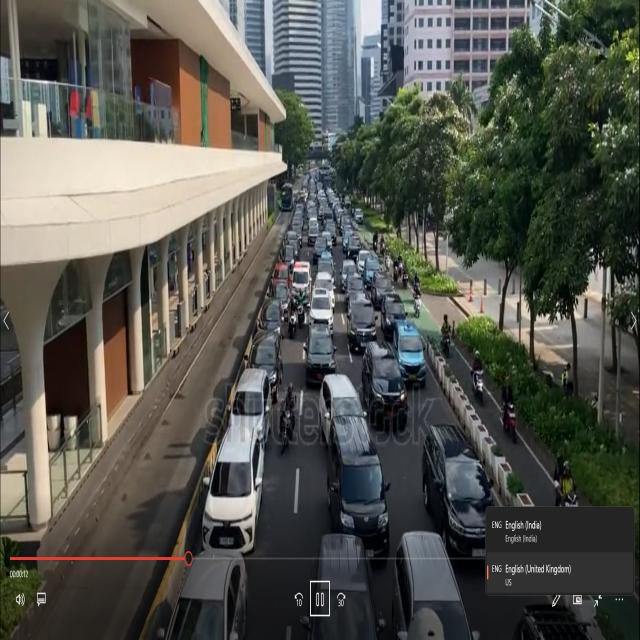Ambulance: (292, 259, 316, 306)
